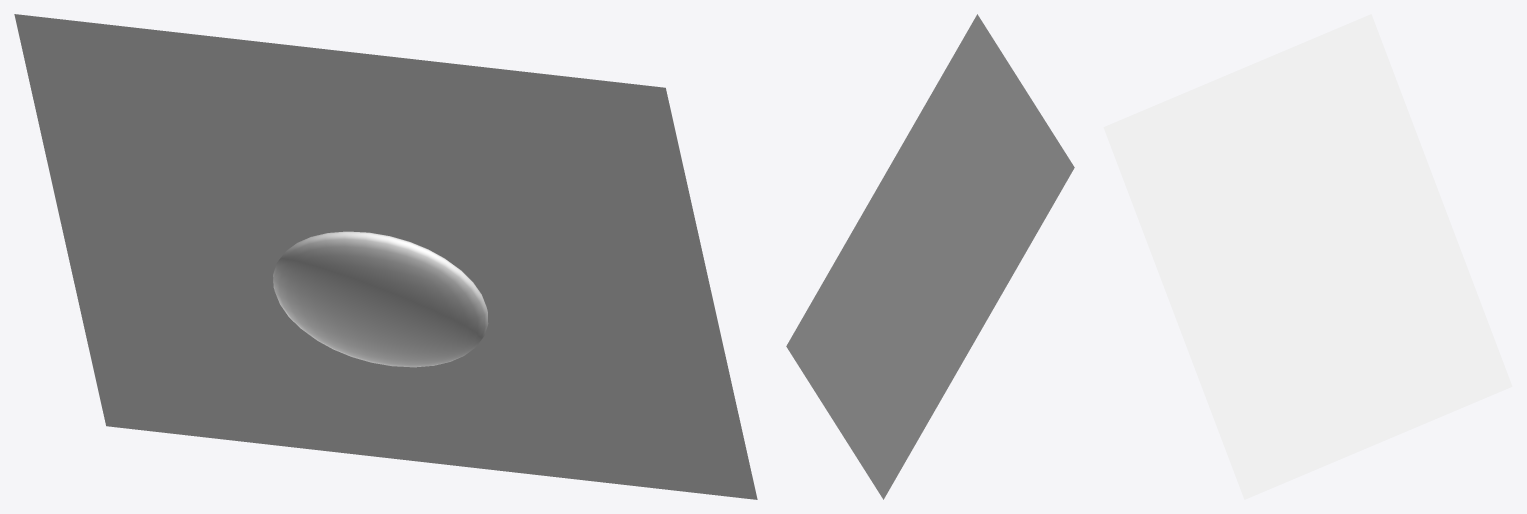
File: MOON.fbx
3 renders of one model, left to right at view 1: azimuth 30°, elevation 25°; view 2: azimuth 150°, elevation 25°; view 3: azimuth 270°, elevation 25°, orthographic. The views are drawn at different scales.
Parts seen in each view (by area): view 1: Moon_Light, Moon (1); view 2: Moon_Light; view 3: Moon_Light.
Boxes of the visible parts, x1,y1,x2,y2 form: Moon_Light: (14,14,757,499); Moon (1): (273,231,488,367); Moon_Light: (786,14,1074,499); Moon_Light: (1103,14,1512,499).
Bounding box in the file's own units: 22.37 × 18.89 × 22.37.
2 materials, 1 textured.
